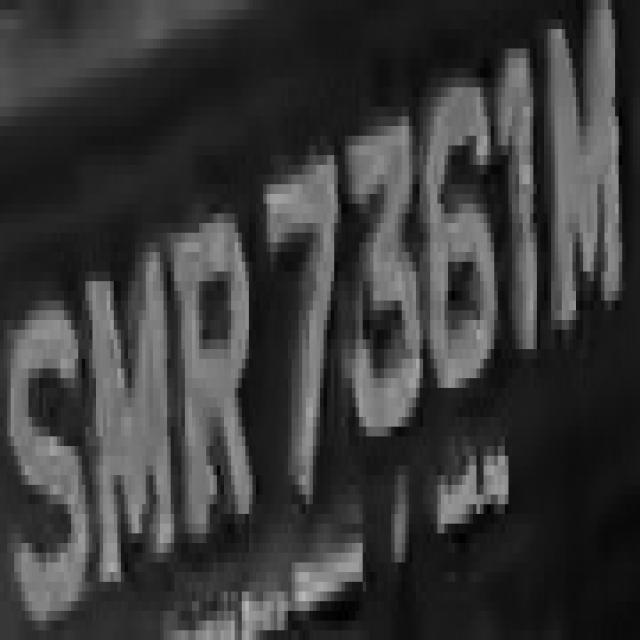1: (494, 39, 544, 417)
3: (345, 87, 423, 475)
6: (405, 78, 498, 417)
7: (256, 146, 348, 524)
M: (89, 233, 178, 611), (540, 0, 636, 330)
R: (175, 194, 252, 572)
S: (7, 272, 93, 601)
